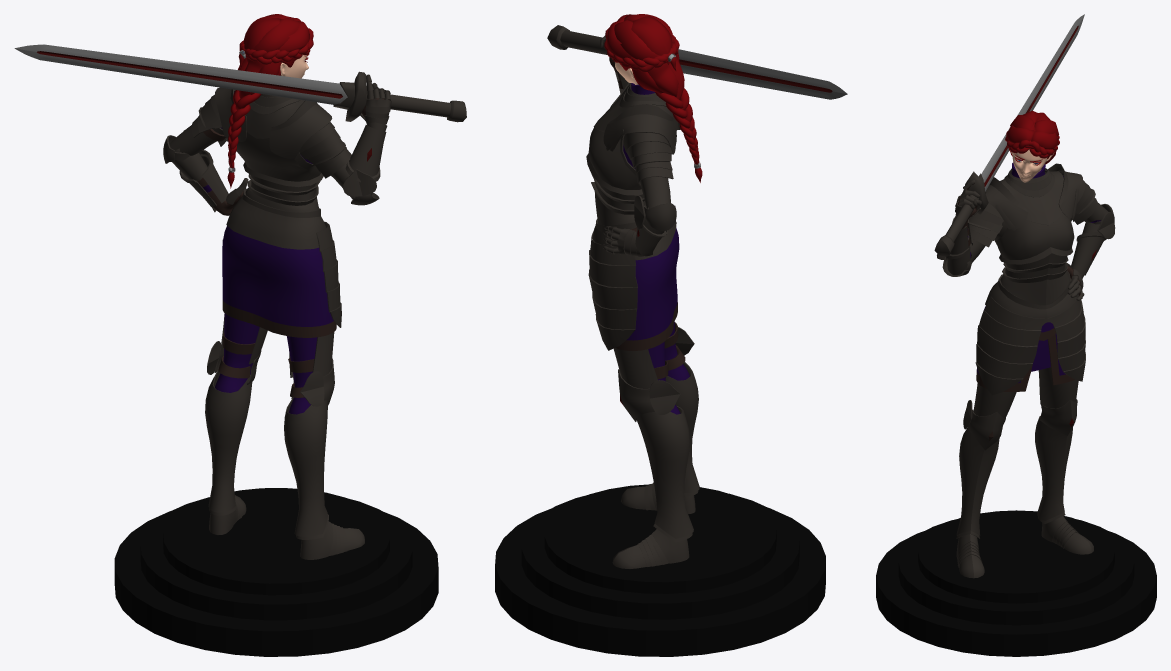
The model's file is Danielle_Freire.glb.
3 renders of one model, left to right at view 1: azimuth 30°, elevation 25°; view 2: azimuth 150°, elevation 25°; view 3: azimuth 270°, elevation 25°, orthographic. The views are drawn at different scales.
Parts seen in each view (by area): view 1: FiguraCaballera; view 2: FiguraCaballera; view 3: FiguraCaballera.
Boxes of the visible parts, x1,y1,x2,y2 form: FiguraCaballera: (14,14,466,656); FiguraCaballera: (495,14,847,656); FiguraCaballera: (876,14,1156,656).
Size of the model in its own units: 0.4802 by 0.7 by 0.3626.
11 materials, 1 textured.
